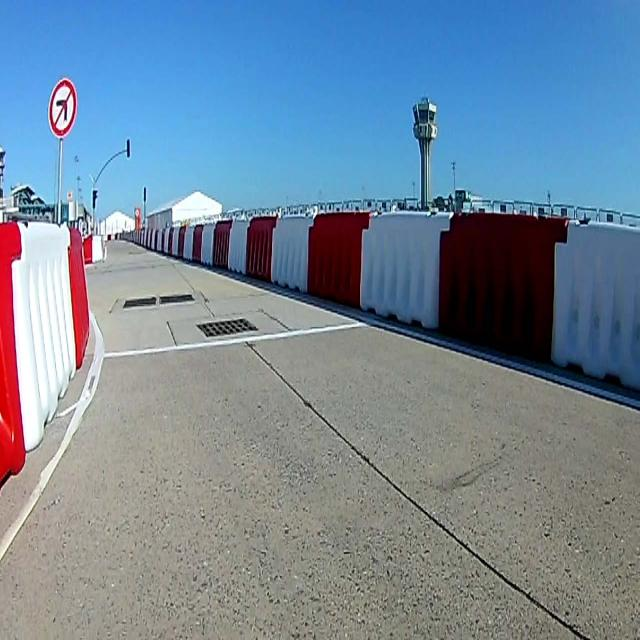soladonulmez: (48, 77, 78, 136)
